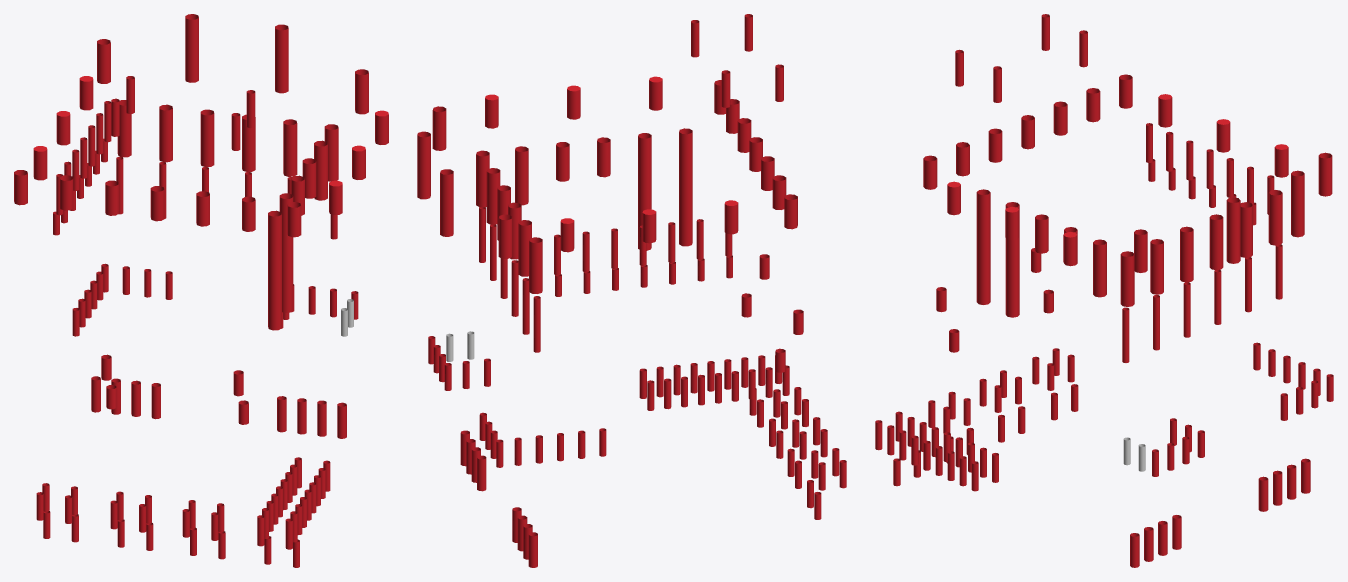
Rendered from pilier temple 01.fbx.
The picture shows the model from 3 angles, left to right: view 1: azimuth 30°, elevation 25°; view 2: azimuth 150°, elevation 25°; view 3: azimuth 270°, elevation 25°; orthographic projection. The views are drawn at different scales.
Parts seen in each view (by area): view 1: Circle.107, Circle.041, Circle.068, Circle.035, Circle.044, Circle.045, Circle.040, Circle.016, Circle.020, Circle.042, Circle.043, Circle.022 (+7 smaller); view 2: Circle.107, Circle.035, Circle.041, Circle.068, Circle.044, Circle.042, Circle.045, Circle.040, Circle.043, Circle.049, Circle.022, Circle.016 (+6 smaller); view 3: Circle.041, Circle.107, Circle.035, Circle.068, Circle.044, Circle.042, Circle.045, Circle.040, Circle.020, Circle.016, Circle.043, Circle.022 (+5 smaller).
Part boxes in pixels (box(x1,y1,x2,y2)): Circle.107: box(268, 140, 327, 330); Circle.041: box(117, 100, 338, 181); Circle.068: box(14, 170, 301, 237); Circle.035: box(257, 457, 330, 549); Circle.044: box(33, 76, 388, 214); Circle.045: box(56, 101, 111, 215); Circle.040: box(185, 14, 288, 93); Circle.016: box(277, 396, 346, 438); Circle.020: box(91, 376, 160, 419); Circle.042: box(116, 156, 337, 239); Circle.043: box(97, 39, 368, 114); Circle.022: box(72, 271, 103, 336); Circle.107: box(515, 128, 692, 250); Circle.035: box(639, 355, 789, 410); Circle.041: box(476, 150, 542, 293); Circle.068: box(714, 80, 797, 229); Circle.044: box(485, 76, 738, 252); Circle.042: box(479, 207, 540, 352); Circle.045: box(554, 219, 732, 275); Circle.040: box(417, 131, 453, 236); Circle.043: box(432, 106, 512, 258); Circle.049: box(555, 255, 732, 296); Circle.022: box(514, 428, 606, 465); Circle.016: box(460, 430, 486, 491); Circle.041: box(1120, 190, 1282, 306); Circle.107: box(976, 189, 1106, 317); Circle.035: box(875, 411, 998, 491); Circle.068: box(923, 74, 1132, 189); Circle.044: box(947, 94, 1288, 265); Circle.042: box(1122, 244, 1282, 362); Circle.045: box(1146, 123, 1274, 214); Circle.040: box(1226, 170, 1304, 263); Circle.020: box(1258, 458, 1310, 511); Circle.016: box(1130, 515, 1181, 567); Circle.043: box(1134, 152, 1332, 272); Circle.022: box(1253, 342, 1320, 395).
Bounding box in the file's own units: 53.1 × 59.06 × 58.2.
